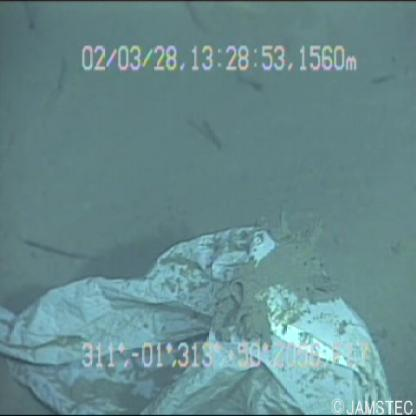Rác: (2, 225, 400, 416)
